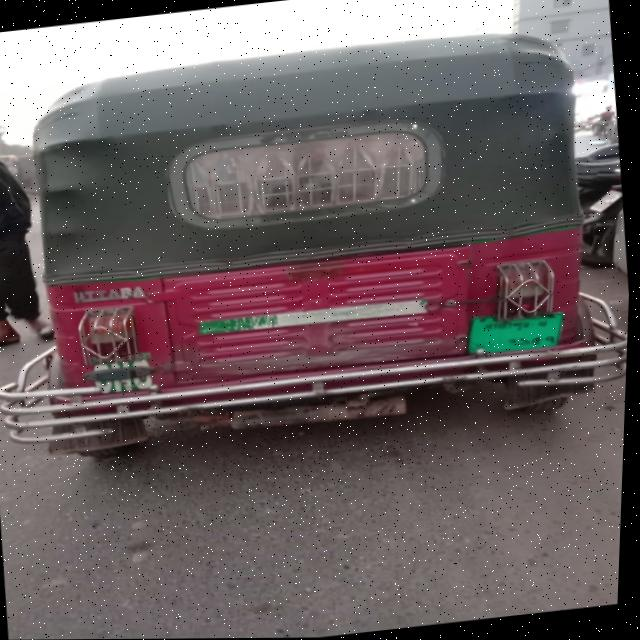cng: (11, 0, 640, 548)
